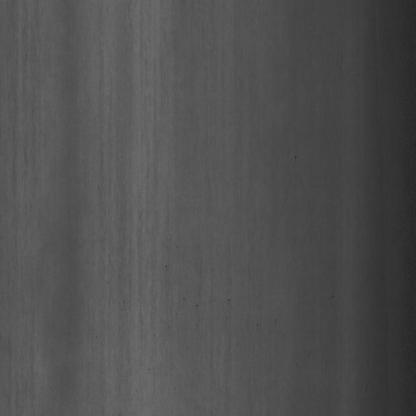silk_spot: (100, 27, 181, 372)
